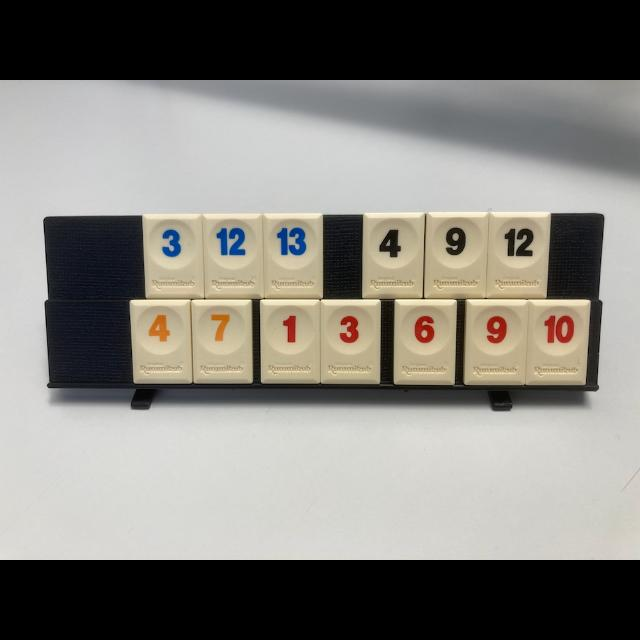black_12: (486, 211, 551, 299)
black_4: (362, 212, 425, 298)
black_9: (424, 212, 488, 299)
blue_12: (203, 215, 262, 299)
blue_13: (264, 216, 324, 299)
blue_3: (142, 214, 205, 299)
orange_4: (130, 300, 192, 382)
orange_7: (191, 300, 254, 384)
red_1: (261, 300, 320, 384)
red_10: (525, 301, 590, 385)
red_3: (321, 300, 380, 384)
red_6: (394, 301, 456, 385)
red_9: (464, 299, 528, 385)
